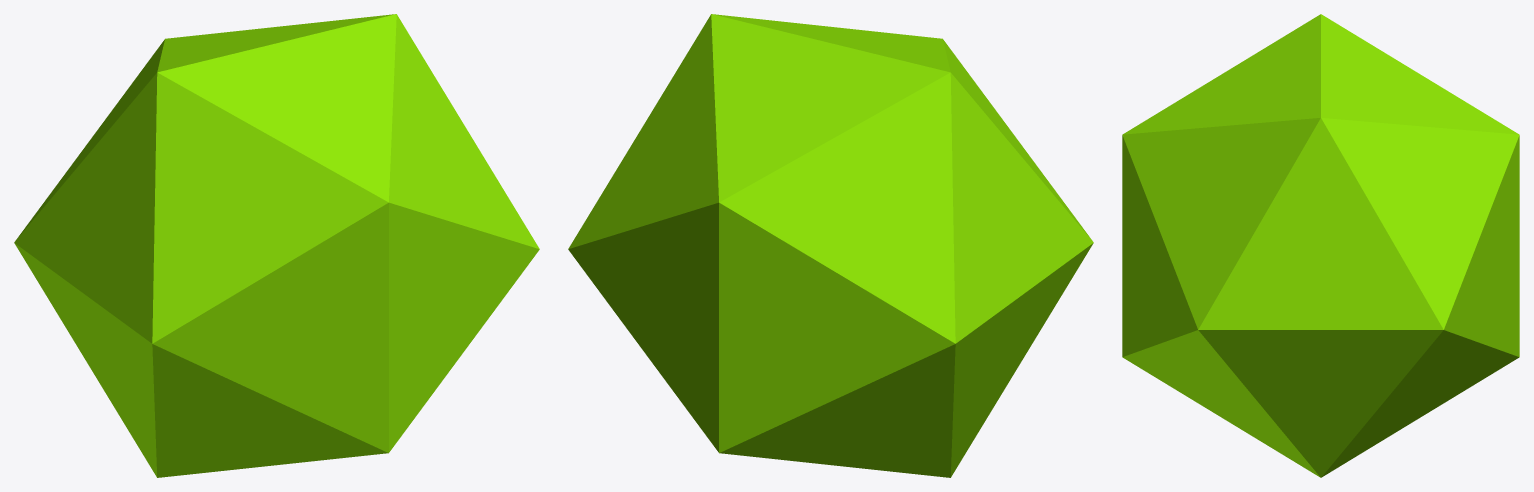
Rendered from asset.glb.
3 views of the same model, side by side, from view 1: azimuth 30°, elevation 25°; view 2: azimuth 150°, elevation 25°; view 3: azimuth 270°, elevation 25° (orthographic). The views are drawn at different scales.
Visible parts, largest first — view 1: Platonic; view 2: Platonic; view 3: Platonic.
Boxes of the visible parts, left/top/right/bottom form: Platonic: left=14, top=14, right=539, bottom=477; Platonic: left=568, top=14, right=1093, bottom=477; Platonic: left=1122, top=14, right=1519, bottom=477.
Bounding box in the file's own units: 170 × 170 × 170.
